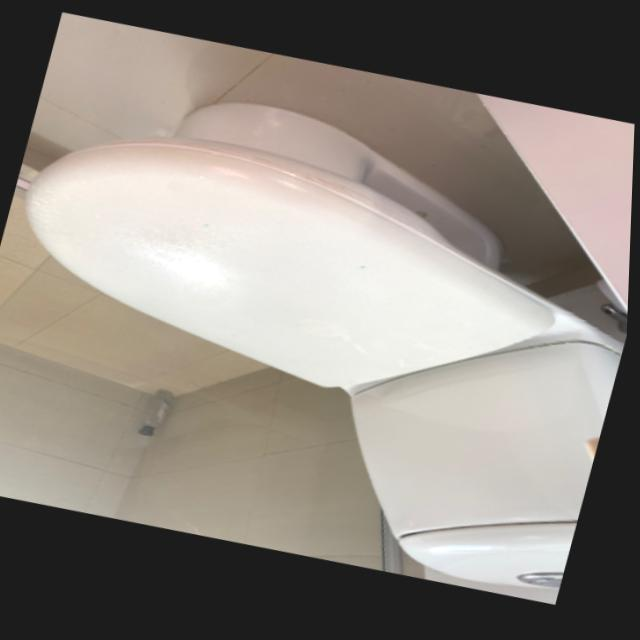toilet: (0, 47, 638, 621)
